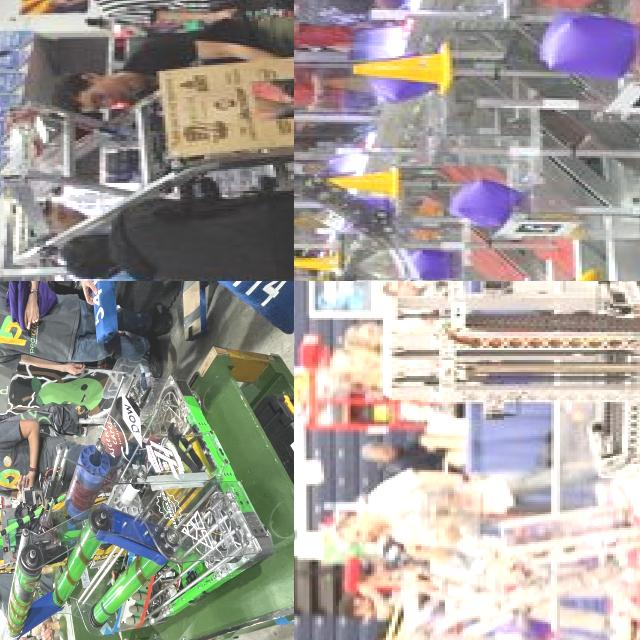FRC-Robots: (0, 349, 253, 640), (0, 1, 294, 237), (383, 281, 640, 507), (294, 155, 640, 281), (380, 532, 640, 640)
